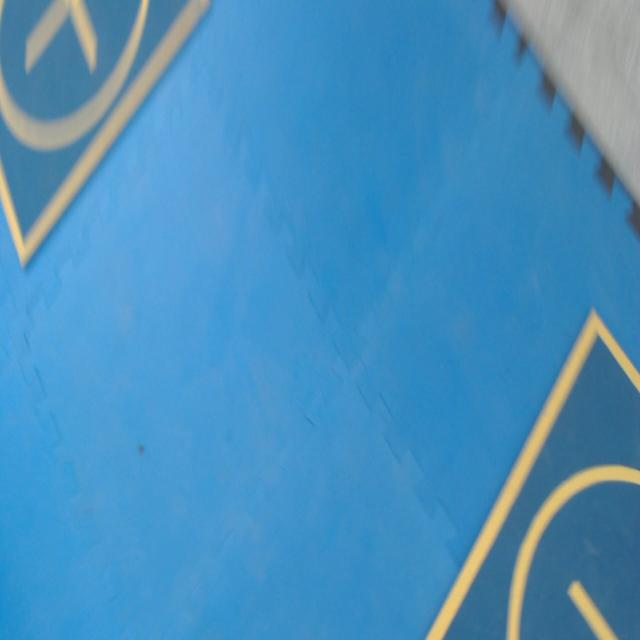base_pouso: (425, 307, 640, 638), (0, 0, 214, 272)
